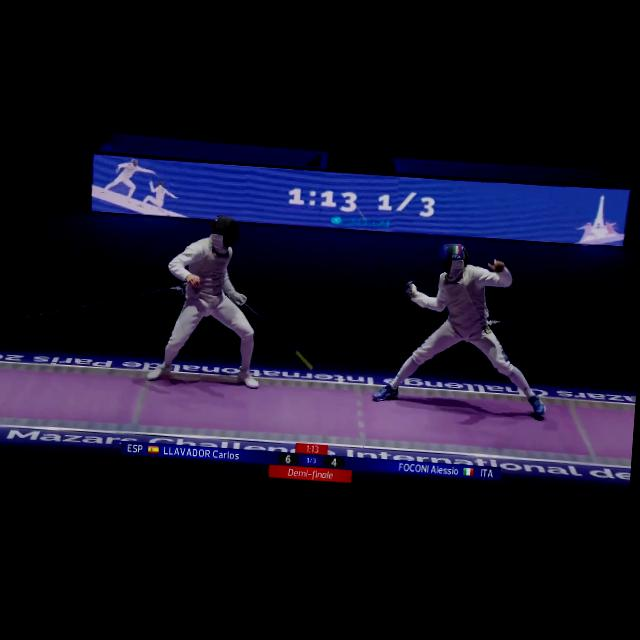blade: (344, 196, 423, 292), (232, 294, 322, 376)
